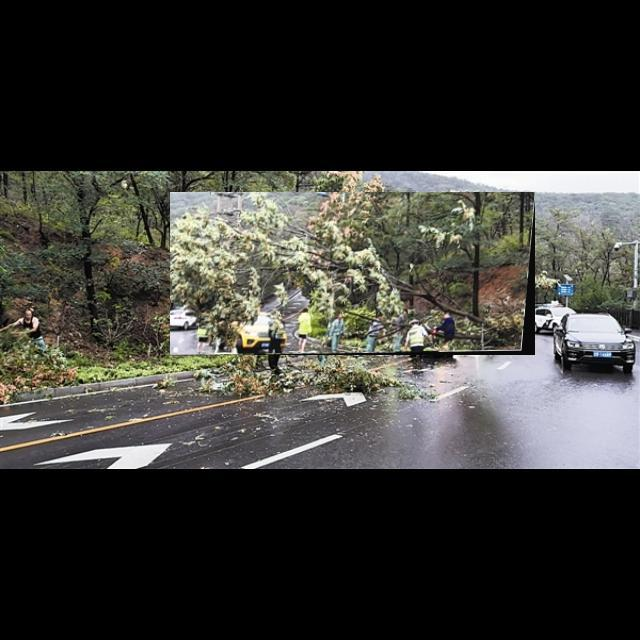fallen_tree: (170, 192, 536, 356)
